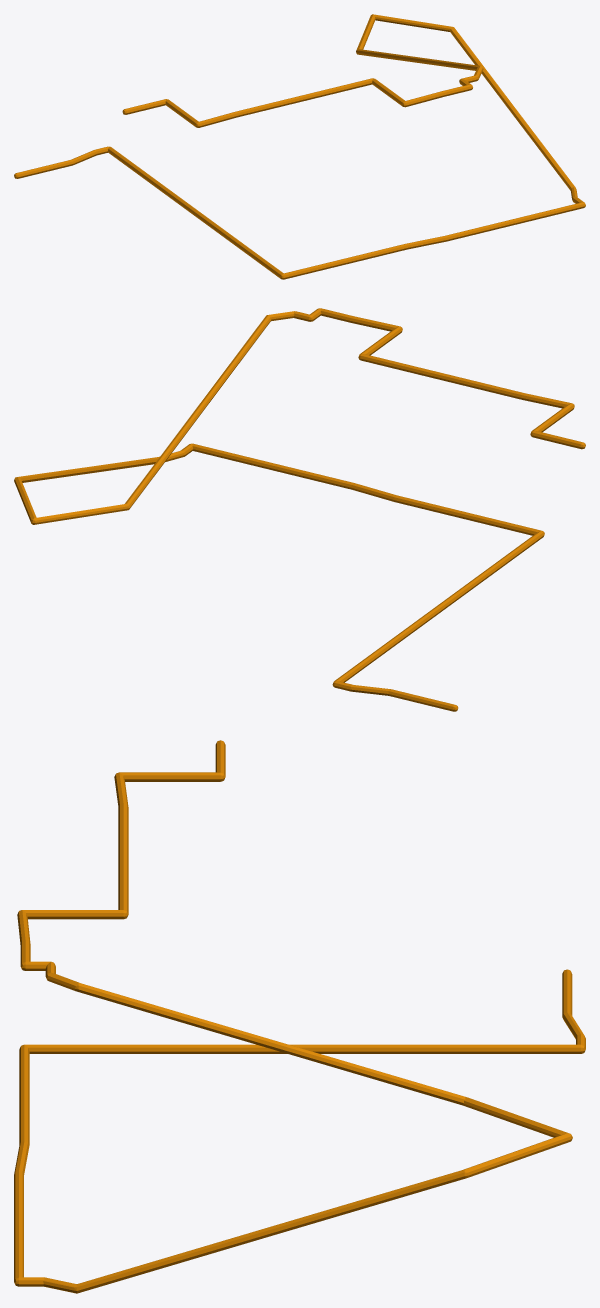
3 views of the same model, one above another, from view 1: azimuth 30°, elevation 25°; view 2: azimuth 150°, elevation 25°; view 3: azimuth 270°, elevation 25° (orthographic). The views are drawn at different scales.
Bounding box in the file's own units: 1492 × 520 × 1131.
